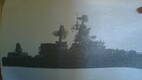tau_muctieu: (3, 15, 142, 70)
